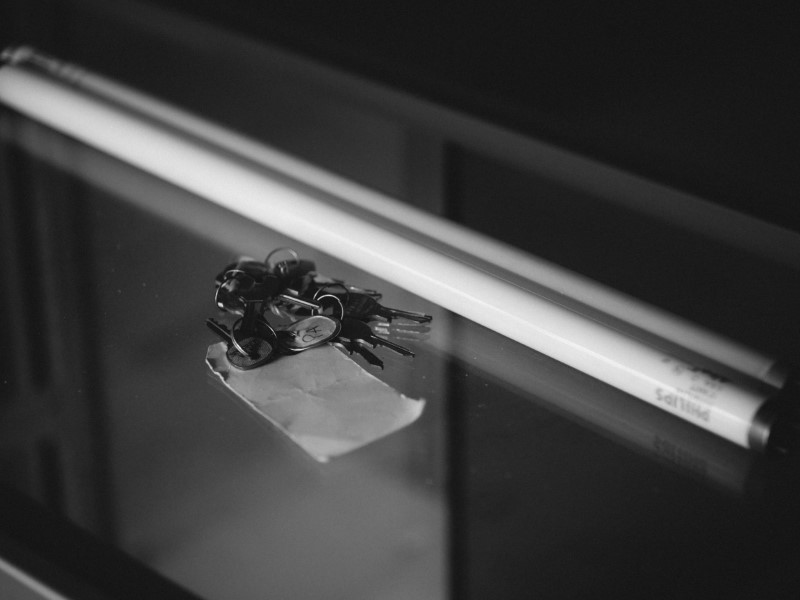key: (202, 245, 433, 371)
